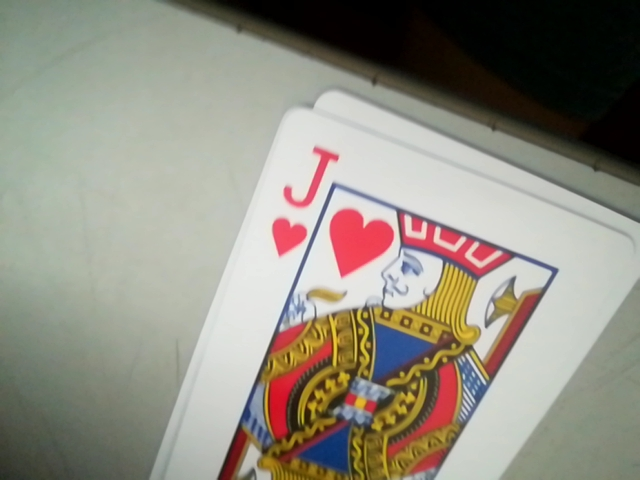hx j: (264, 119, 343, 255)
